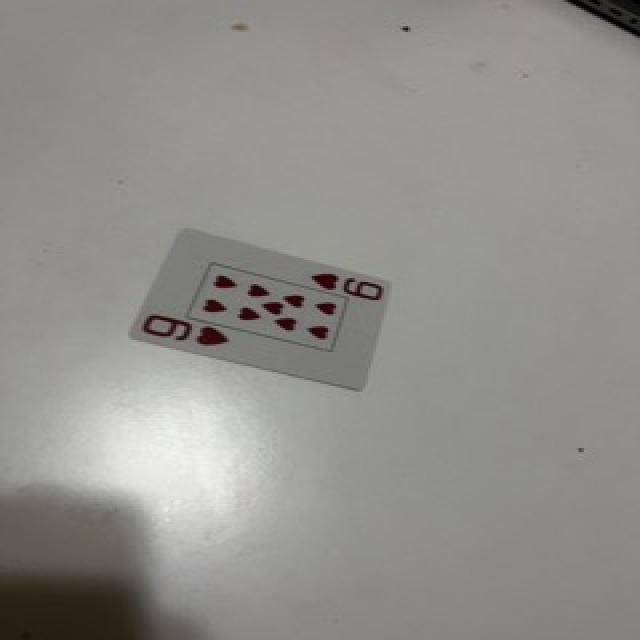9 of hearts: (132, 229, 388, 390)
